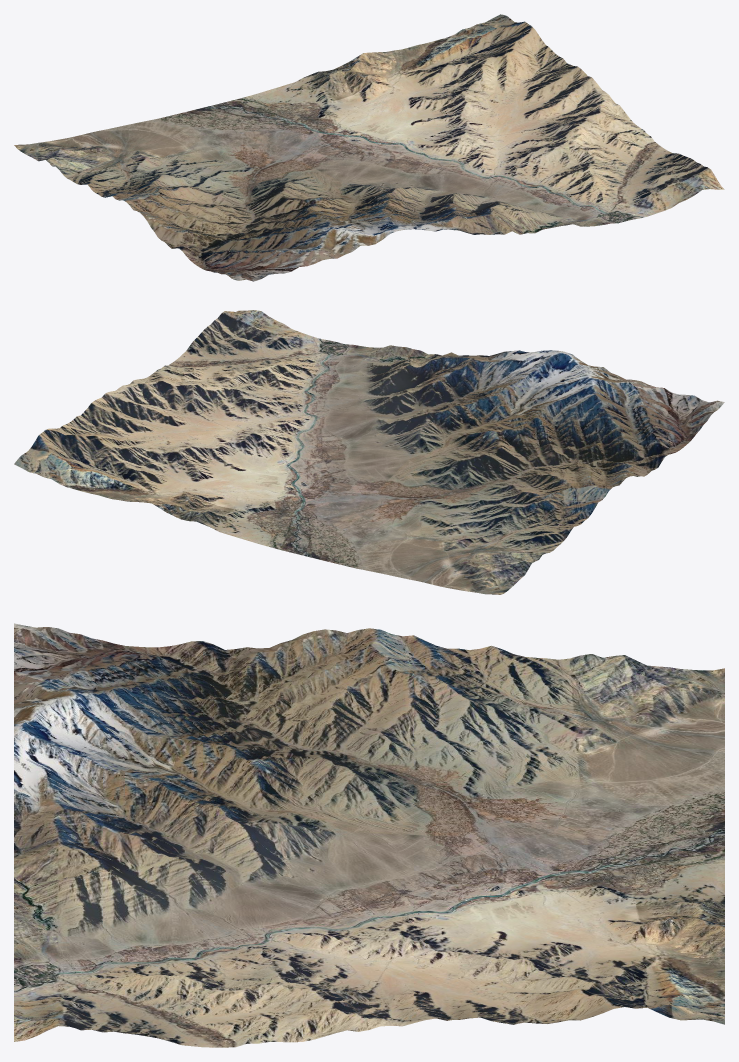
3 views of the same model, one above another, from view 1: azimuth 30°, elevation 25°; view 2: azimuth 150°, elevation 25°; view 3: azimuth 270°, elevation 25° (orthographic). The views are drawn at different scales.
Parts seen in each view (by area): view 1: EXPORT_GOOGLE_SAT_WM_1; view 2: EXPORT_GOOGLE_SAT_WM_1; view 3: EXPORT_GOOGLE_SAT_WM_1.
Boxes of the visible parts, <box> form: EXPORT_GOOGLE_SAT_WM_1: <box>14,14,724,281</box>; EXPORT_GOOGLE_SAT_WM_1: <box>14,310,724,594</box>; EXPORT_GOOGLE_SAT_WM_1: <box>14,623,724,1047</box>.
Size of the model in its own units: 24460 by 2361 by 19568.
1 material, 1 textured.
